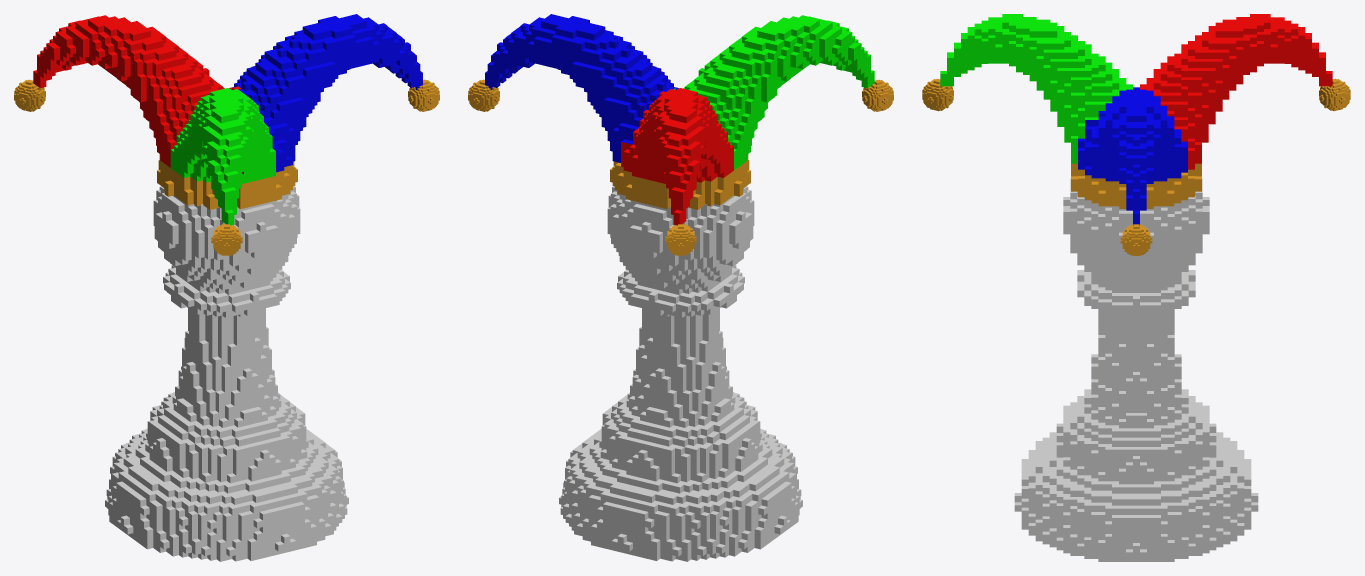
The model's file is joker.fbx.
3 renders of one model, left to right at view 1: azimuth 30°, elevation 25°; view 2: azimuth 150°, elevation 25°; view 3: azimuth 270°, elevation 25°, orthographic.
Parts seen in each view (by area): view 1: Pawn, JokerHat.002, Sphere.005, Sphere.004, Sphere.003; view 2: Pawn, JokerHat.002, Sphere.004, Sphere.005, Sphere.003; view 3: Pawn, JokerHat.002, Sphere.003, Sphere.004, Sphere.005.
Boxes of the visible parts, box(x1,y1,x2,y2) form: Pawn: box(105, 186, 348, 561); JokerHat.002: box(33, 14, 422, 225); Sphere.005: box(211, 224, 242, 255); Sphere.004: box(14, 79, 45, 111); Sphere.003: box(408, 79, 439, 111); Pawn: box(559, 186, 802, 561); JokerHat.002: box(485, 14, 874, 225); Sphere.004: box(665, 224, 696, 255); Sphere.005: box(862, 79, 893, 111); Sphere.003: box(468, 79, 499, 111); Pawn: box(1014, 178, 1258, 561); JokerHat.002: box(940, 14, 1332, 225); Sphere.003: box(1120, 224, 1152, 255); Sphere.004: box(1319, 78, 1350, 111); Sphere.005: box(922, 78, 953, 111).
Bounding box in the file's own units: 200 × 273 × 228.
